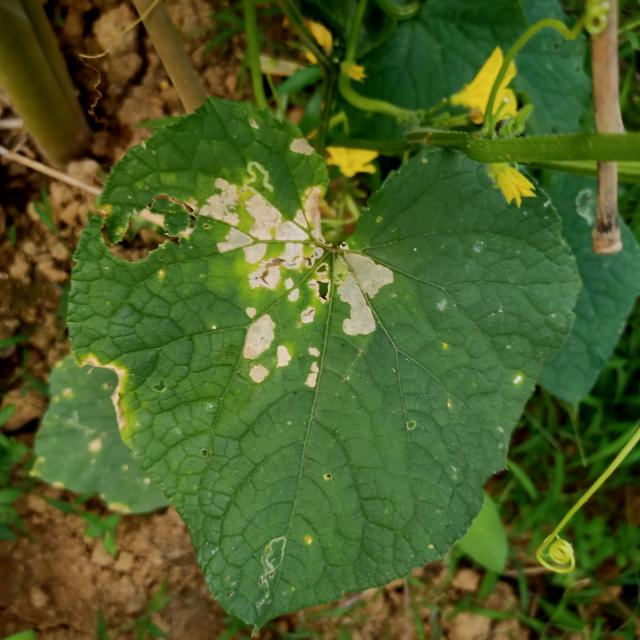disease_cucumber: (196, 177, 401, 395)
